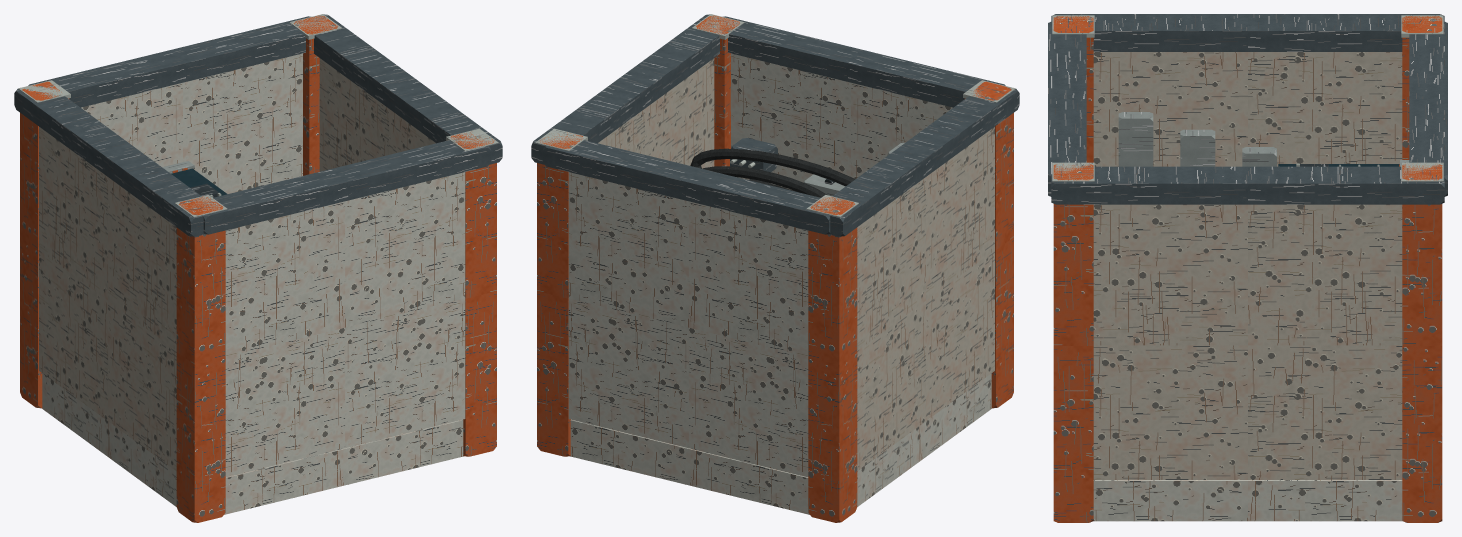
The model's file is salvage_crate.glb.
The picture shows the model from 3 angles, left to right: view 1: azimuth 30°, elevation 25°; view 2: azimuth 150°, elevation 25°; view 3: azimuth 270°, elevation 25°; orthographic projection. The views are drawn at different scales.
Visible parts, largest first — view 1: end_wall_+0.23_rover_white, side_wall_-0.23_warm_shell, end_wall_-0.23_rover_white, corner_cast_post_2_orange, cargo_bottom_rover_white, end_rim_+0.23_dark_alloy, corner_cast_post_3_orange, end_rim_-0.23_dark_alloy, side_rim_-0.23_dark_alloy, side_rim_+0.23_dark_alloy, side_wall_+0.23_warm_shell, corner_cast_post_0_orange (+3 smaller); view 2: end_wall_-0.23_rover_white, side_wall_-0.23_warm_shell, end_wall_+0.23_rover_white, corner_cast_post_0_orange, cargo_bottom_rover_white, end_rim_-0.23_dark_alloy, corner_cast_post_1_orange, end_rim_+0.23_dark_alloy, side_rim_-0.23_dark_alloy, side_rim_+0.23_dark_alloy, side_wall_+0.23_warm_shell, corner_cast_post_2_orange (+5 smaller); view 3: side_wall_+0.23_warm_shell, side_wall_-0.23_warm_shell, side_rim_+0.23_dark_alloy, corner_cast_post_1_orange, corner_cast_post_3_orange, cargo_bottom_rover_white, side_rim_-0.23_dark_alloy, end_rim_-0.23_dark_alloy, end_rim_+0.23_dark_alloy, angled_L_bracket_short_2_alloy, corner_cast_post_2_orange, corner_cast_post_0_orange (+4 smaller).
Boxes of the visible parts, <box> form: end_wall_+0.23_rover_white: <box>225,172,465,477</box>; side_wall_-0.23_warm_shell: <box>39,127,176,471</box>; end_wall_-0.23_rover_white: <box>81,53,302,193</box>; corner_cast_post_2_orange: <box>176,196,225,522</box>; cargo_bottom_rover_white: <box>42,373,463,514</box>; end_rim_+0.23_dark_alloy: <box>203,140,491,234</box>; corner_cast_post_3_orange: <box>450,131,496,456</box>; end_rim_-0.23_dark_alloy: <box>28,16,310,107</box>; side_rim_-0.23_dark_alloy: <box>14,89,217,236</box>; side_rim_+0.23_dark_alloy: <box>314,14,502,164</box>; side_wall_+0.23_warm_shell: <box>319,58,435,171</box>; corner_cast_post_0_orange: <box>20,81,69,408</box>; end_wall_-0.23_rover_white: <box>568,172,808,477</box>; side_wall_-0.23_warm_shell: <box>857,127,994,471</box>; end_wall_+0.23_rover_white: <box>731,53,952,190</box>; corner_cast_post_0_orange: <box>808,197,857,522</box>; cargo_bottom_rover_white: <box>570,373,991,514</box>; end_rim_-0.23_dark_alloy: <box>542,140,830,234</box>; corner_cast_post_1_orange: <box>537,132,583,456</box>; end_rim_+0.23_dark_alloy: <box>723,16,1005,107</box>; side_rim_-0.23_dark_alloy: <box>816,89,1019,236</box>; side_rim_+0.23_dark_alloy: <box>531,14,719,164</box>; side_wall_+0.23_warm_shell: <box>598,58,714,168</box>; corner_cast_post_2_orange: <box>964,81,1013,408</box>; side_wall_+0.23_warm_shell: <box>1093,204,1402,479</box>; side_wall_-0.23_warm_shell: <box>1093,52,1402,166</box>; side_rim_+0.23_dark_alloy: <box>1051,166,1444,204</box>; corner_cast_post_1_orange: <box>1402,164,1442,522</box>; corner_cast_post_3_orange: <box>1053,163,1093,522</box>; cargo_bottom_rover_white: <box>1093,480,1402,521</box>; side_rim_-0.23_dark_alloy: <box>1051,14,1444,51</box>; end_rim_-0.23_dark_alloy: <box>1409,21,1447,196</box>; end_rim_+0.23_dark_alloy: <box>1048,21,1086,196</box>; angled_L_bracket_short_2_alloy: <box>1118,112,1153,166</box>; corner_cast_post_2_orange: <box>1053,16,1093,162</box>; corner_cast_post_0_orange: <box>1402,16,1442,159</box>.
Size of the model in its own units: 0.52 by 0.491 by 0.518.
11 materials, 11 textured.
